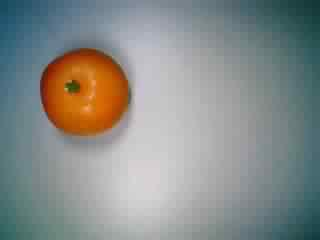orange: (34, 44, 133, 141)
